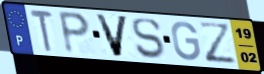G: (170, 20, 203, 62)
P: (56, 9, 92, 56)
S: (130, 17, 166, 60)
T: (28, 8, 56, 54)
V: (93, 12, 131, 59)
Z: (197, 20, 240, 65)
